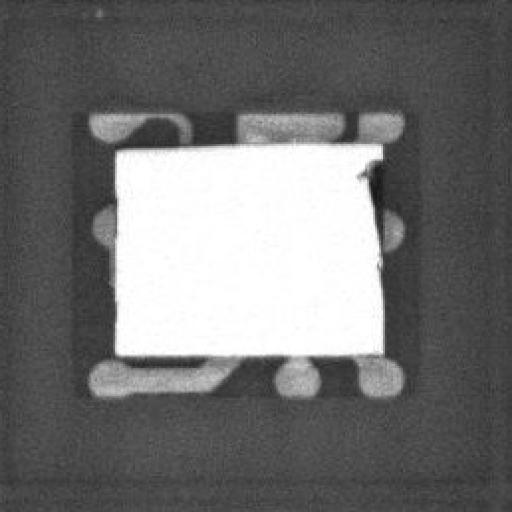DIE_INK: (87, 2, 105, 19)
